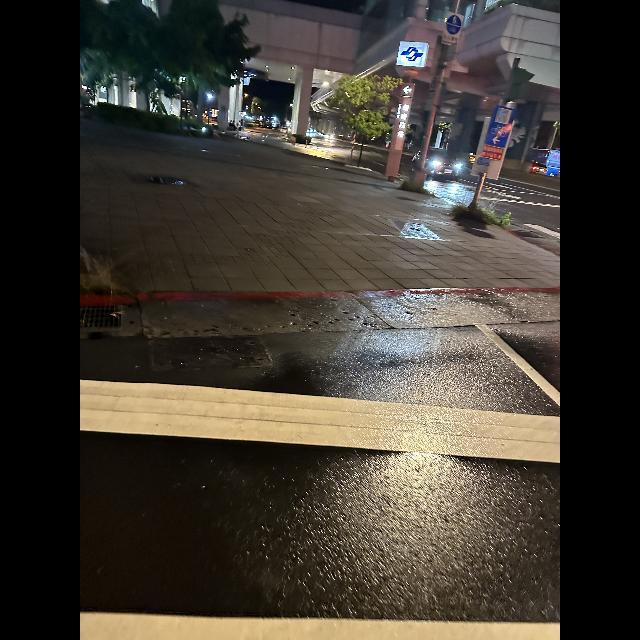sidewalk: (80, 377, 556, 640)
